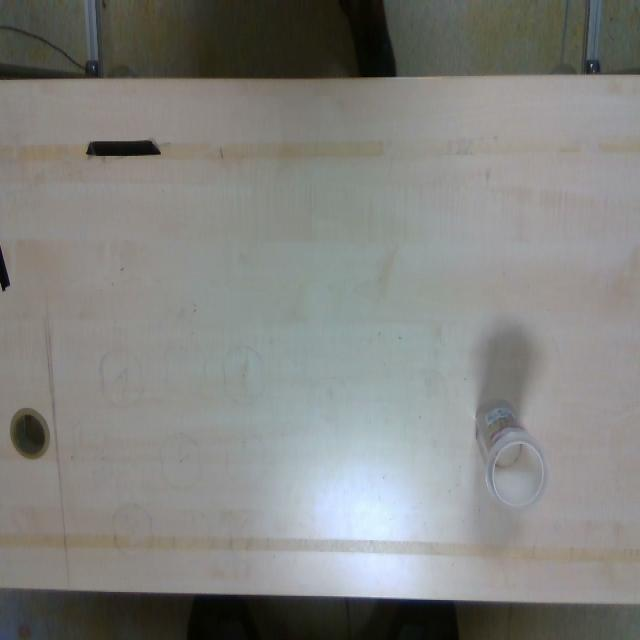cups: (475, 397, 548, 510)
